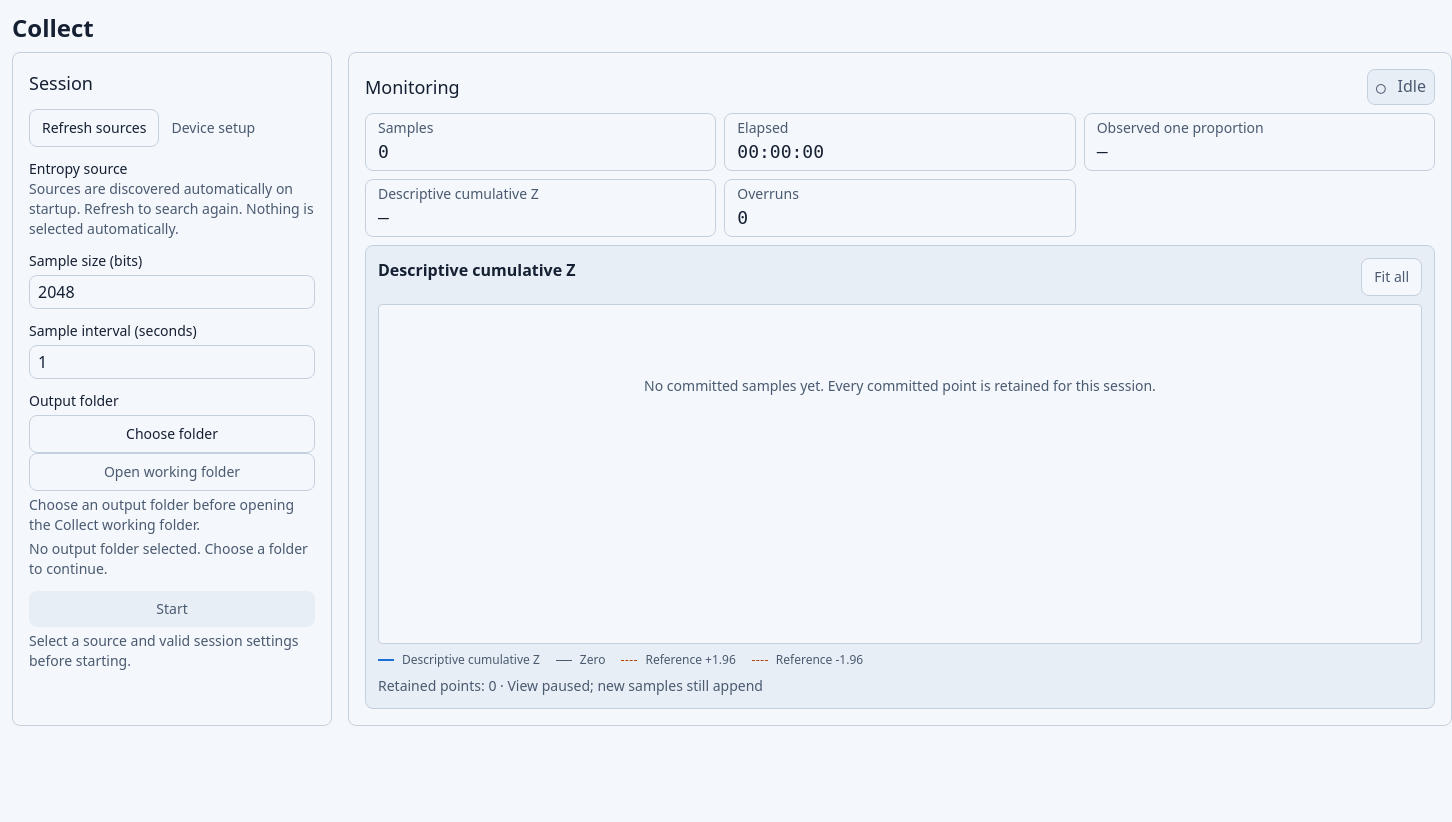
it: SessionConfiguration › records a chosen folder label in development without a filesystem path
Click the button "Choose folder" at [172, 434], box [29,415,315,453]
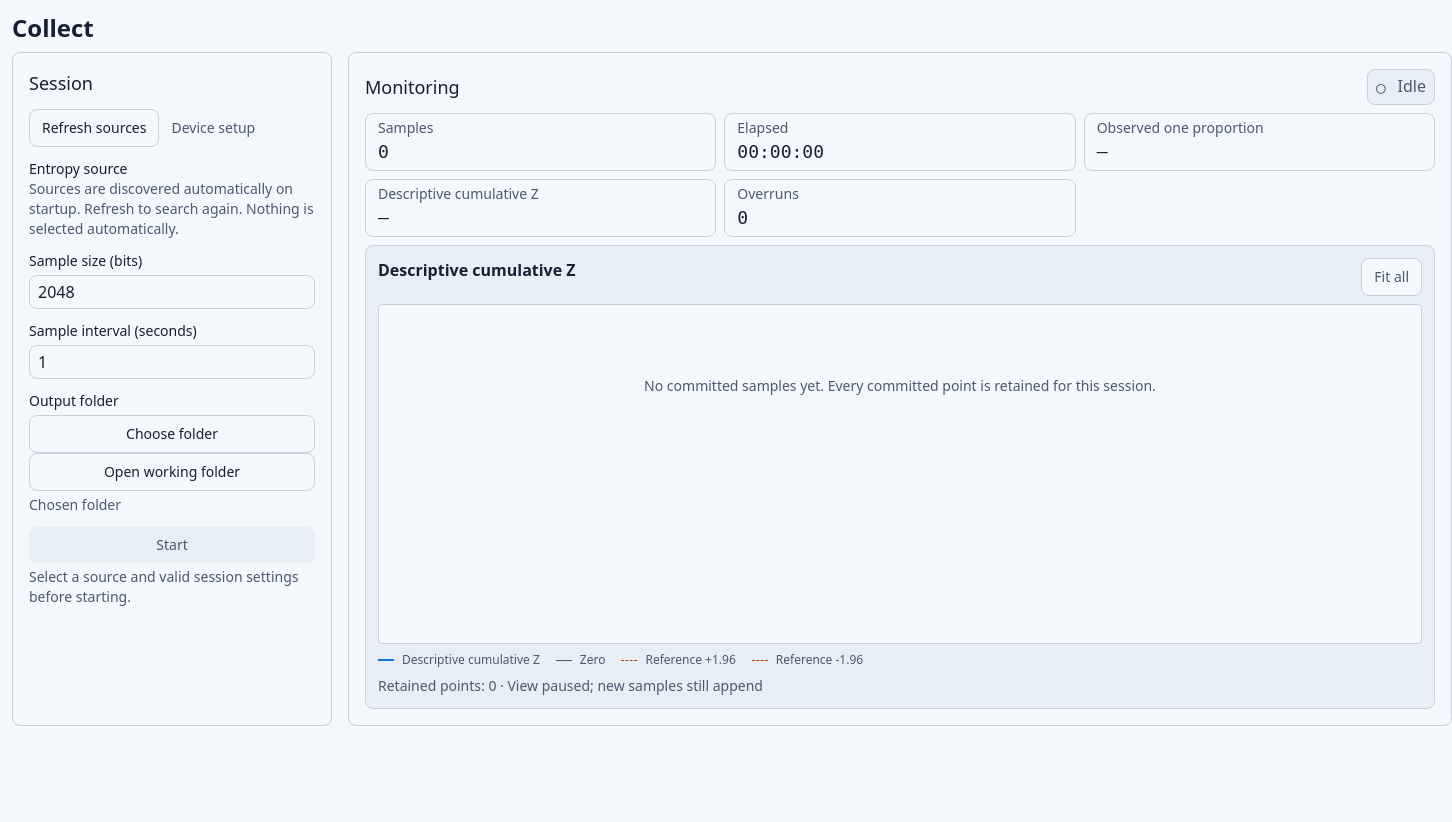
Check: the text "Chosen folder" is shown, box [29,495,121,514]
